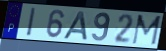2: (114, 13, 135, 45)
6: (45, 9, 66, 39)
9: (91, 12, 111, 43)
A: (62, 10, 89, 42)
I: (26, 7, 38, 38)
M: (130, 14, 163, 47)
